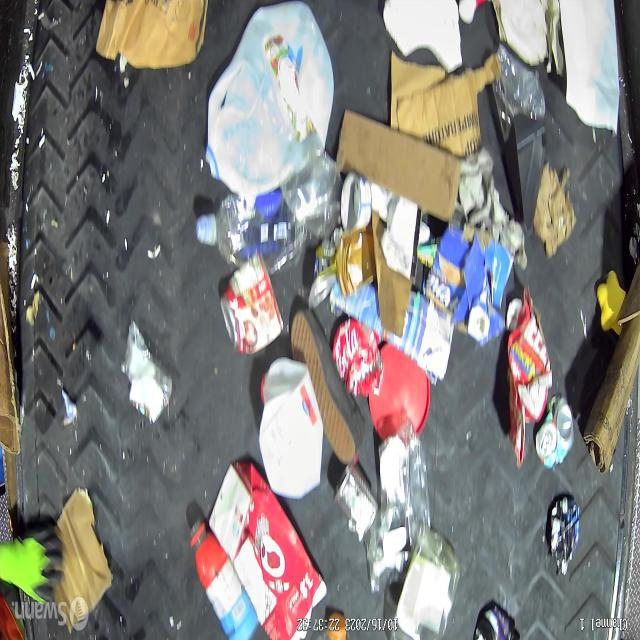can: (218, 253, 284, 357), (331, 317, 384, 398), (334, 466, 378, 542), (533, 398, 573, 471), (308, 238, 336, 312), (342, 172, 373, 236)
milk_jug: (204, 3, 332, 197), (255, 354, 322, 498), (561, 1, 621, 132)
non_white_jug: (208, 461, 328, 640)
plastic_bottle: (198, 185, 316, 273)
